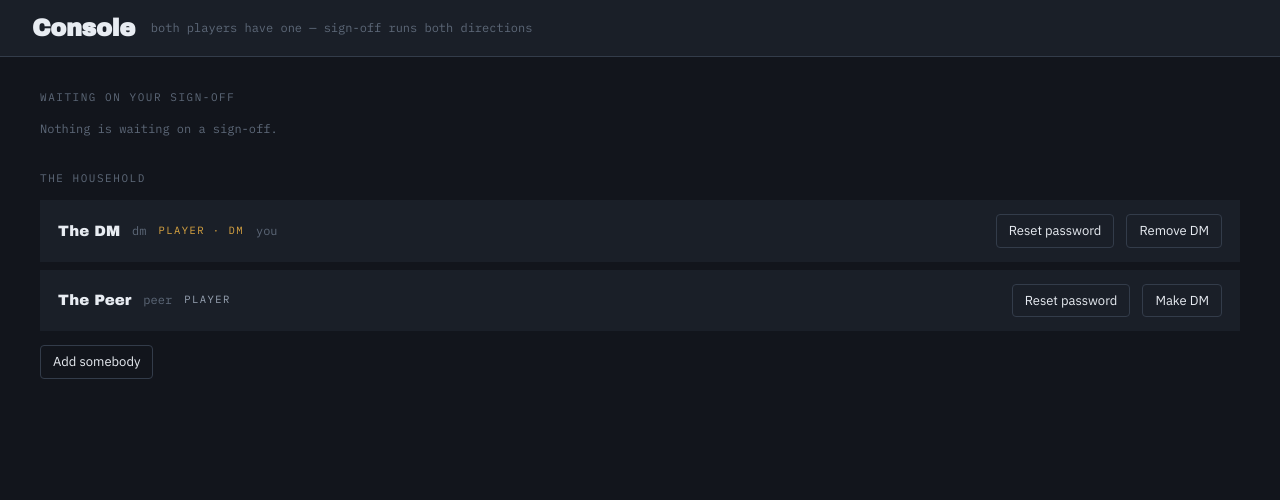
Test case: the three acts › resets a password and says who was signed out
Check: the heading "Console" is shown, box [32,10,135,46]
Click the button "Reset password" in the row of "The Peer": (1071, 300) [1012,284,1130,317]
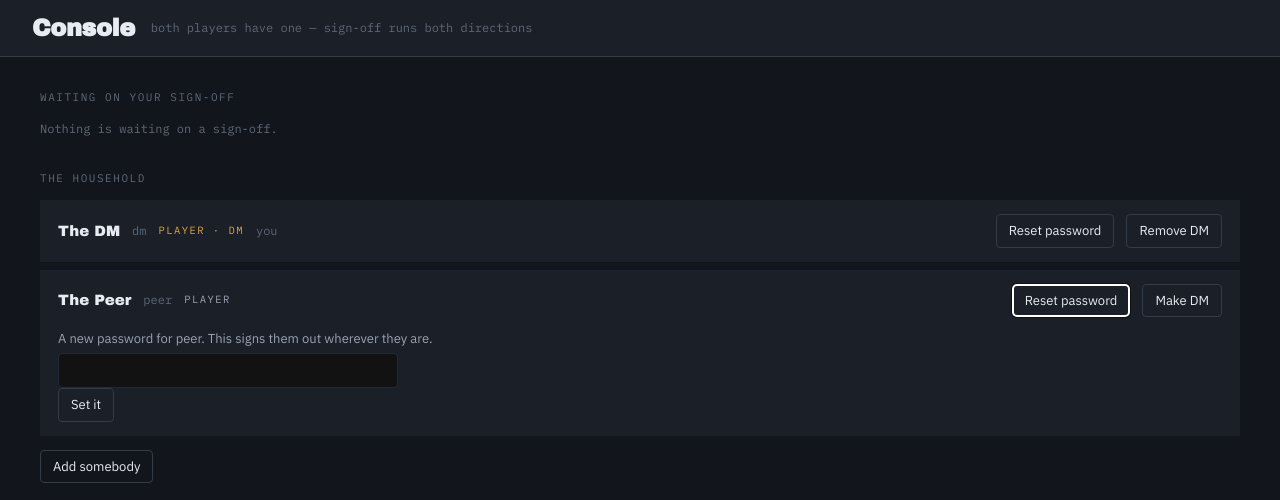
In the password field labelled "A new password for peer": (228, 370) [58,352,398,388], type "a new one"
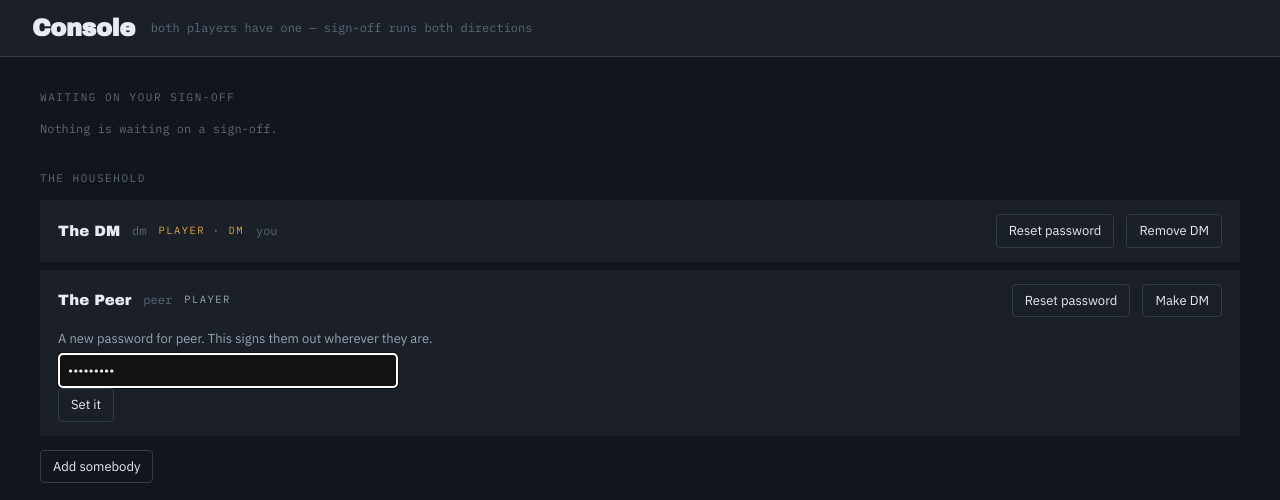
Click the button "Set it": (86, 405) [58,388,114,422]
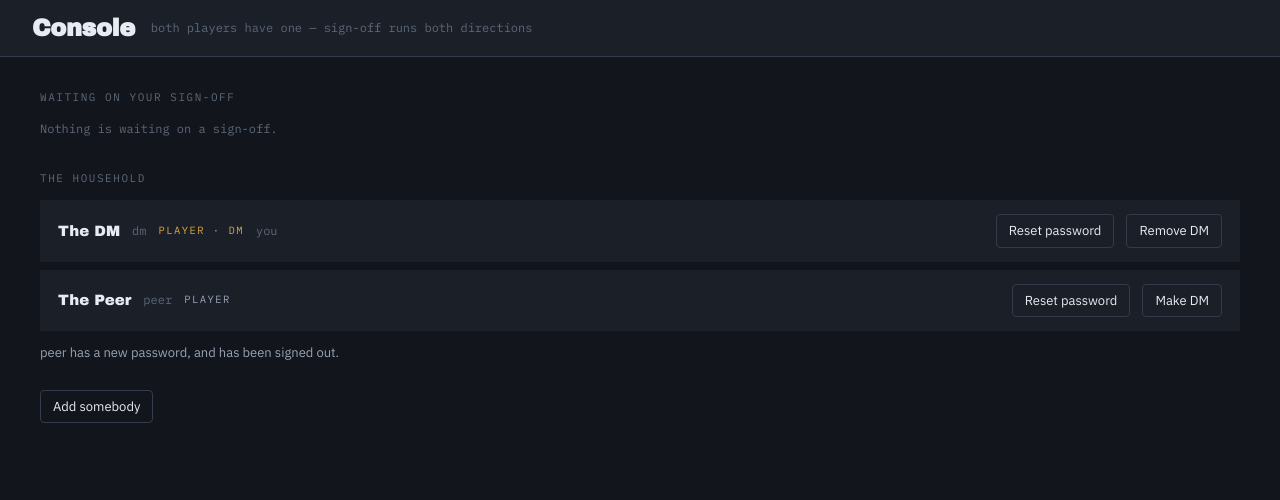
Check: the message shows "signed out", box [40,344,339,361]
